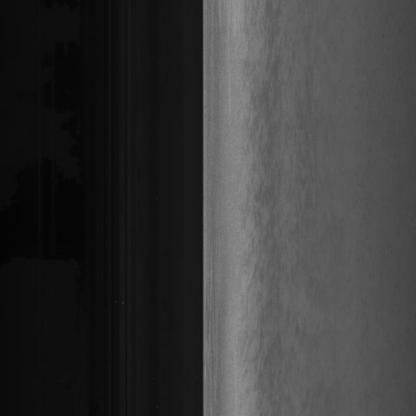silk_spot: (224, 83, 298, 360)
